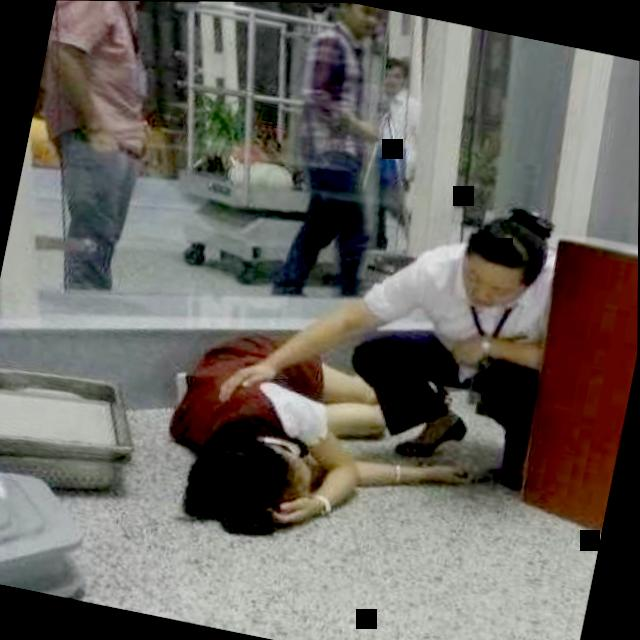Fall-Detected: (133, 289, 499, 583)
